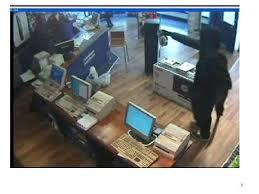weapon: (203, 109, 224, 151)
